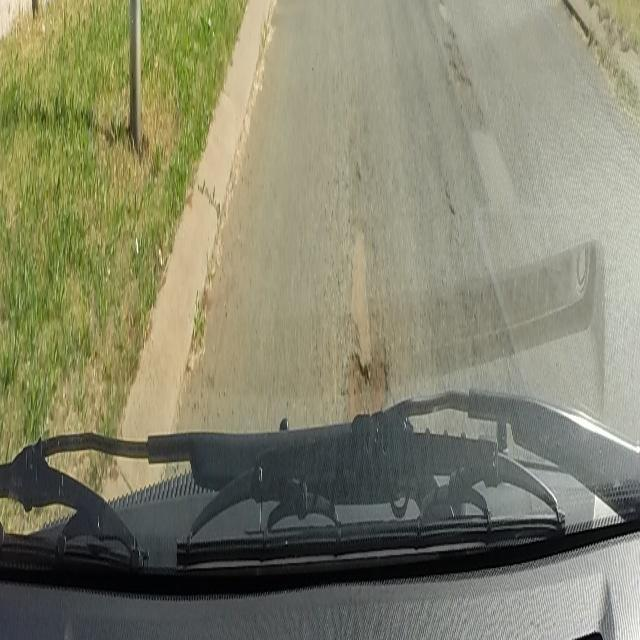pothole: (344, 350, 390, 422)
